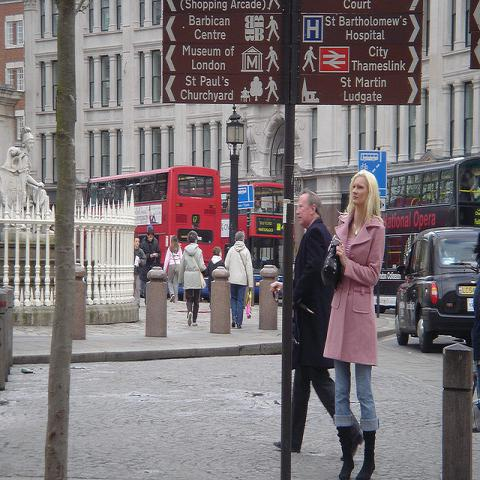bus: (371, 148, 479, 313), (85, 168, 225, 263), (220, 181, 285, 299)
car: (394, 226, 478, 348)
